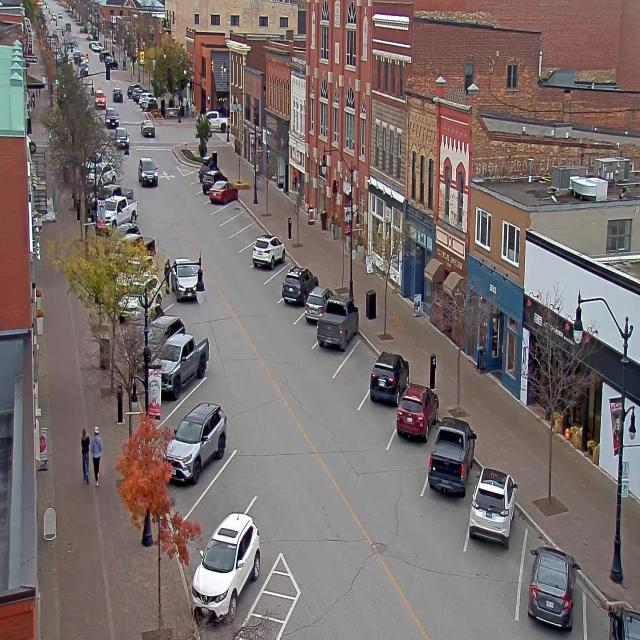available: (198, 439, 266, 519), (164, 368, 226, 408), (343, 329, 379, 386), (263, 264, 288, 304), (242, 217, 263, 245), (238, 240, 255, 265), (182, 166, 200, 187), (225, 214, 252, 226), (222, 206, 244, 218)
occupied: (192, 511, 261, 624), (164, 400, 228, 484), (527, 544, 579, 630), (427, 415, 476, 498), (468, 466, 517, 547), (152, 331, 209, 398), (590, 589, 640, 639), (393, 388, 439, 441), (316, 296, 358, 352), (368, 350, 409, 406), (282, 265, 318, 304), (252, 232, 285, 269), (304, 288, 328, 322), (209, 179, 238, 204), (199, 157, 214, 183), (203, 168, 215, 194)
